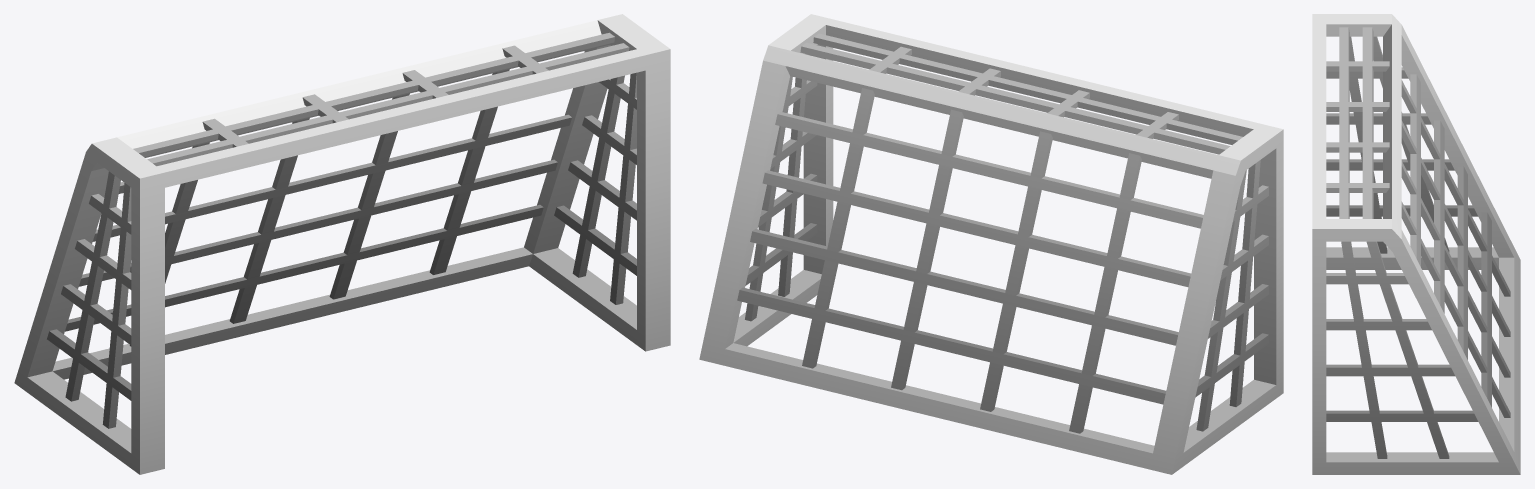
Rendered from soccer goal.fbx.
3 views of the same model, side by side, from view 1: azimuth 30°, elevation 25°; view 2: azimuth 150°, elevation 25°; view 3: azimuth 270°, elevation 25° (orthographic). The views are drawn at different scales.
Parts seen in each view (by area): view 1: soccer goal; view 2: soccer goal; view 3: soccer goal.
Boxes of the visible parts, box(x1,y1,x2,y2) form: soccer goal: box(14, 14, 670, 474); soccer goal: box(699, 14, 1283, 474); soccer goal: box(1312, 14, 1520, 474).
Size of the model in its own units: 393 by 210 by 161.
